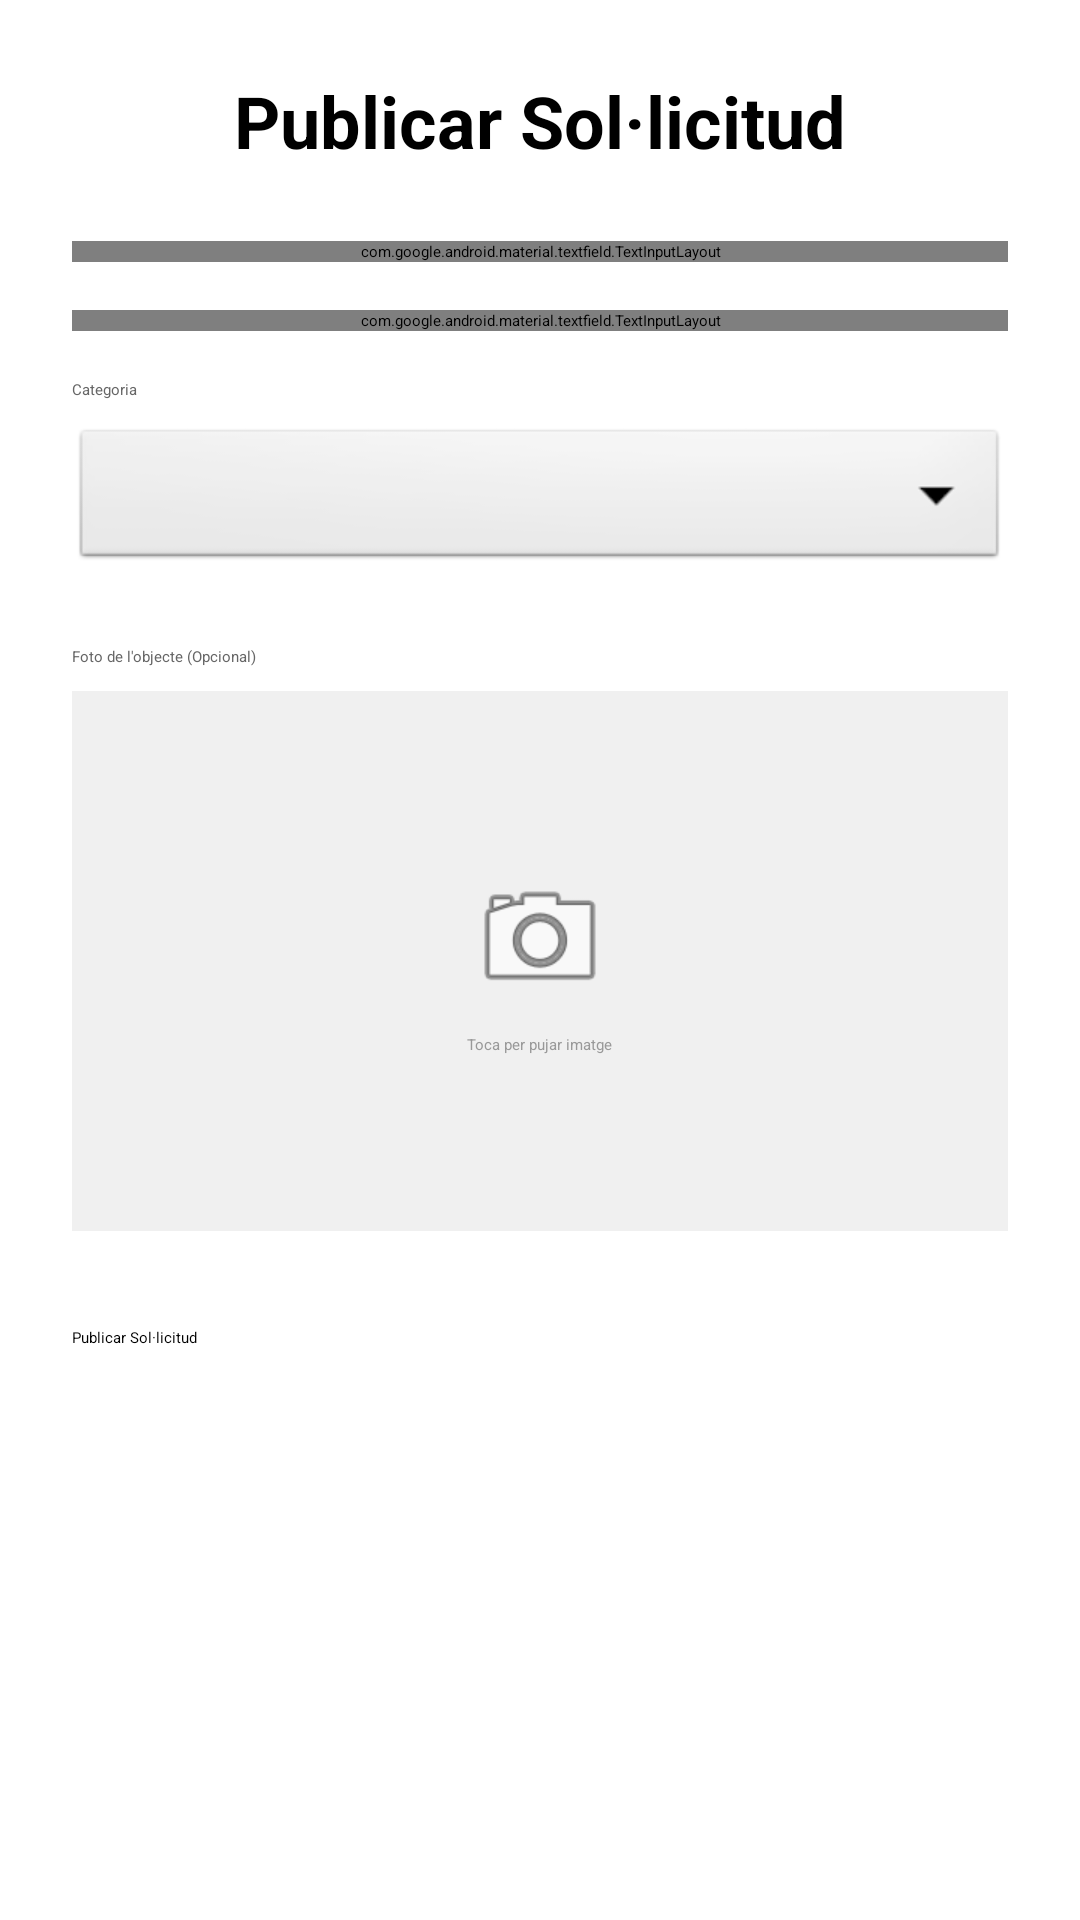

Where to tap for icons on this 1080px×1920px app screen, as (x=x, y=y):
camera: (x=540, y=936)
